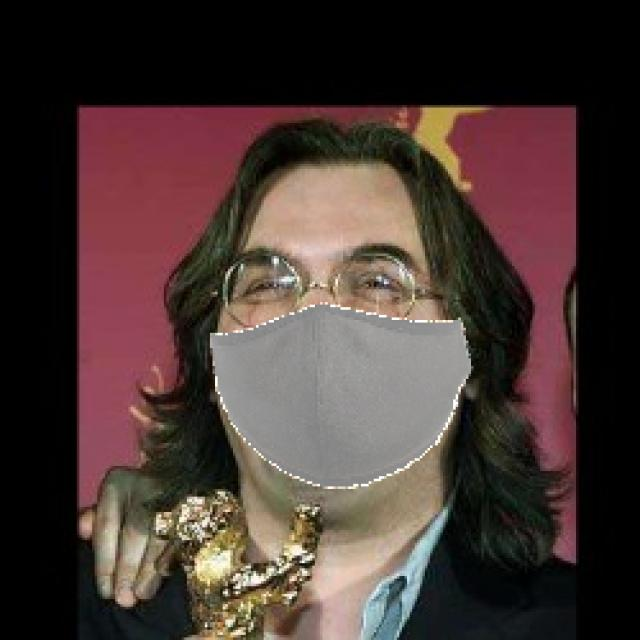mask: (192, 303, 510, 505)
